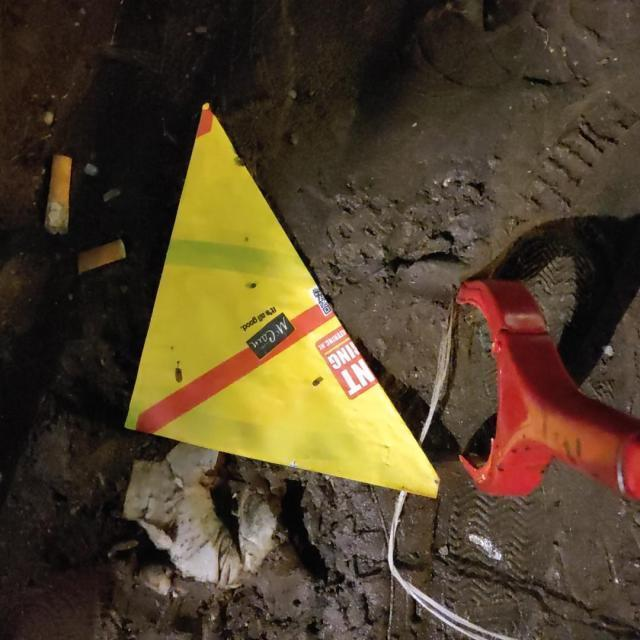Paper: (118, 97, 442, 503), (122, 441, 289, 592)
